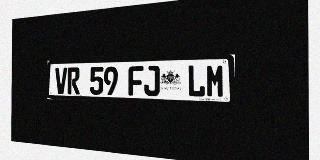5: (90, 67, 103, 95)
9: (104, 66, 118, 95)
F: (128, 66, 143, 96)
J: (144, 66, 160, 96)
L: (187, 65, 205, 97)
M: (206, 64, 225, 98)
R: (67, 67, 80, 94)
V: (55, 68, 67, 94)
